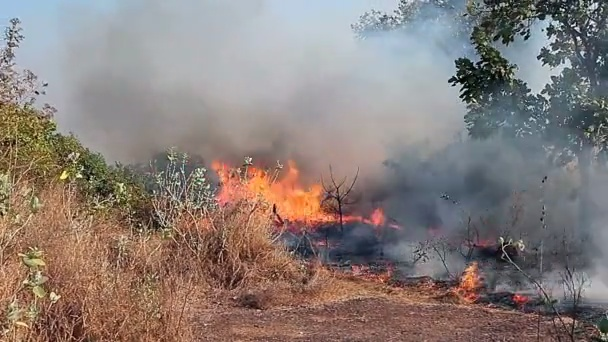fire: (250, 170, 322, 220), (463, 265, 475, 289), (370, 210, 384, 223), (59, 167, 66, 180)
